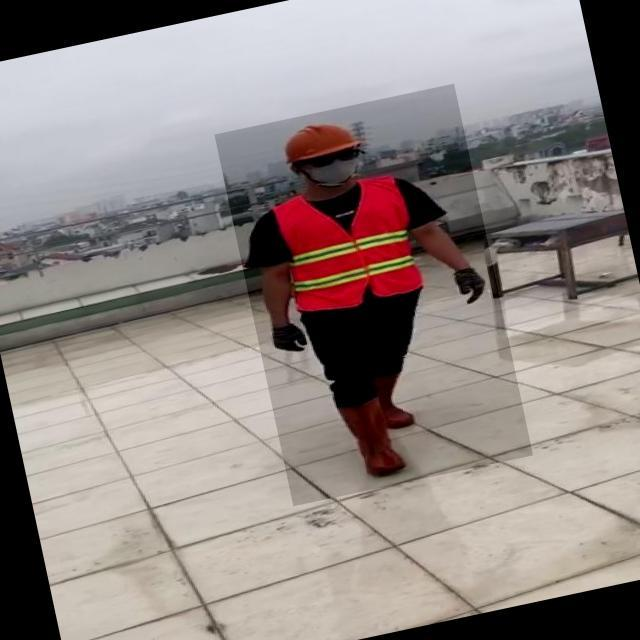Gloves: (453, 262, 492, 306), (271, 320, 316, 357)
Helmet: (275, 111, 366, 168)
Human: (215, 83, 535, 506)
Safety Boot: (337, 394, 413, 484), (370, 366, 419, 432)
Safety Vest: (271, 173, 428, 318)
